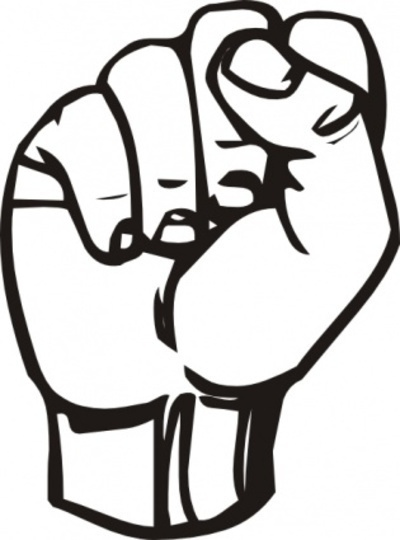closedhandfront: (4, 1, 400, 439)
